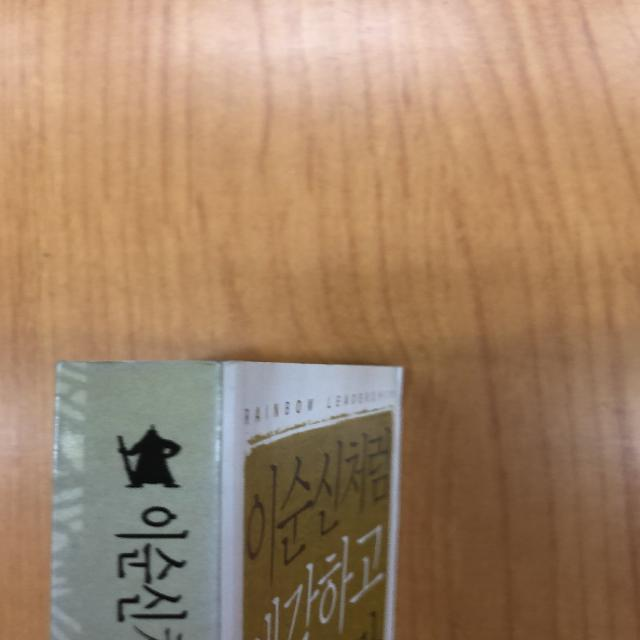Wornout: (40, 351, 243, 374)
